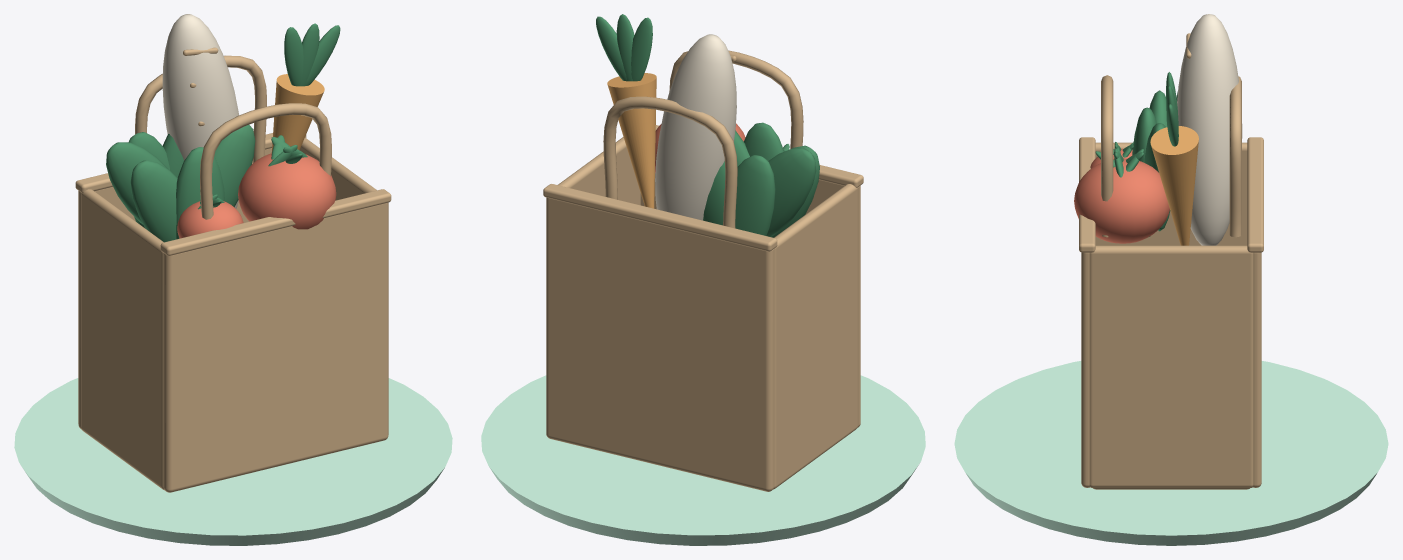
File: fridgellio-groceries.glb
3 renders of one model, left to right at view 1: azimuth 30°, elevation 25°; view 2: azimuth 150°, elevation 25°; view 3: azimuth 270°, elevation 25°, orthographic. The views are drawn at different scales.
Visible parts, largest first — view 1: grocery-bag, Fridgellio groceries illustration, grocery-bag-food; view 2: grocery-bag, Fridgellio groceries illustration, grocery-bag-food; view 3: grocery-bag, Fridgellio groceries illustration, grocery-bag-food.
Part boxes in pixels (x1,y1,x2,y2): grocery-bag: [75, 55, 391, 492]; Fridgellio groceries illustration: [14, 378, 452, 545]; grocery-bag-food: [106, 14, 340, 242]; grocery-bag: [543, 50, 863, 491]; Fridgellio groceries illustration: [481, 375, 925, 545]; grocery-bag-food: [596, 14, 819, 237]; grocery-bag: [1079, 75, 1263, 489]; Fridgellio groceries illustration: [954, 361, 1388, 545]; grocery-bag-food: [1074, 14, 1242, 245].
Size of the model in its own units: 1.96 by 2.14 by 1.96.
